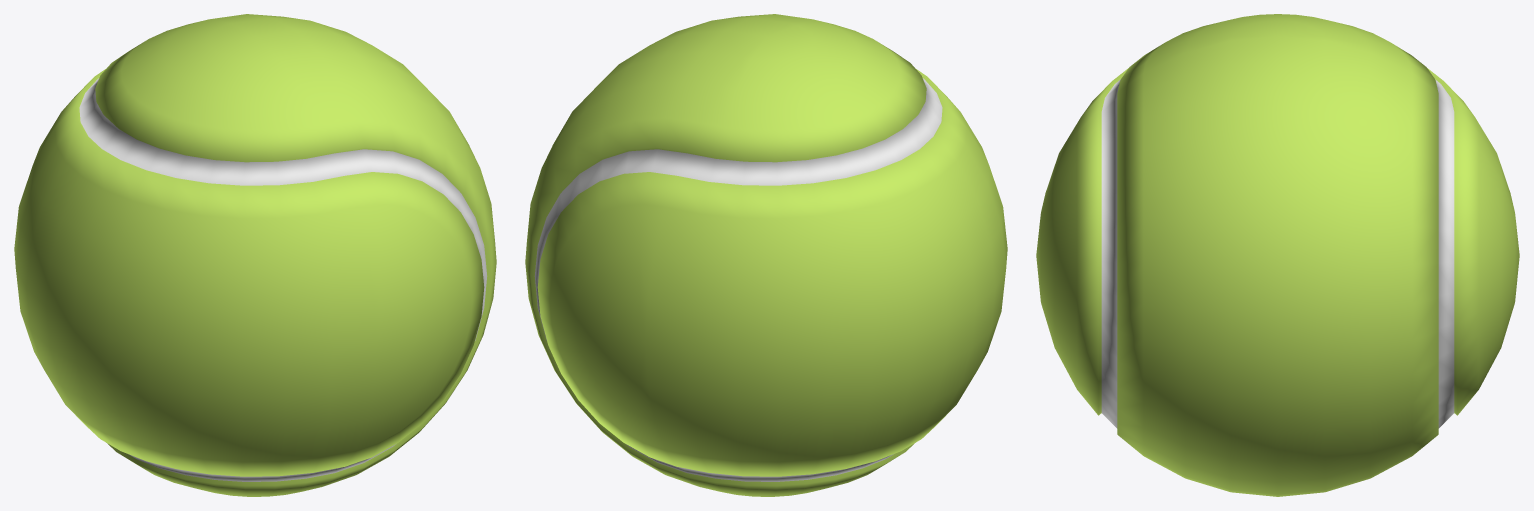
Rendered from Tennisball_v2.fbx.
The picture shows the model from 3 angles, left to right: view 1: azimuth 30°, elevation 25°; view 2: azimuth 150°, elevation 25°; view 3: azimuth 270°, elevation 25°; orthographic projection.
Parts seen in each view (by area): view 1: Sphere; view 2: Sphere; view 3: Sphere.
Boxes of the visible parts, x1,y1,x2,y2 form: Sphere: [14, 14, 496, 496]; Sphere: [525, 14, 1007, 496]; Sphere: [1036, 14, 1519, 496].
Bounding box in the file's own units: 200 × 200 × 200.
